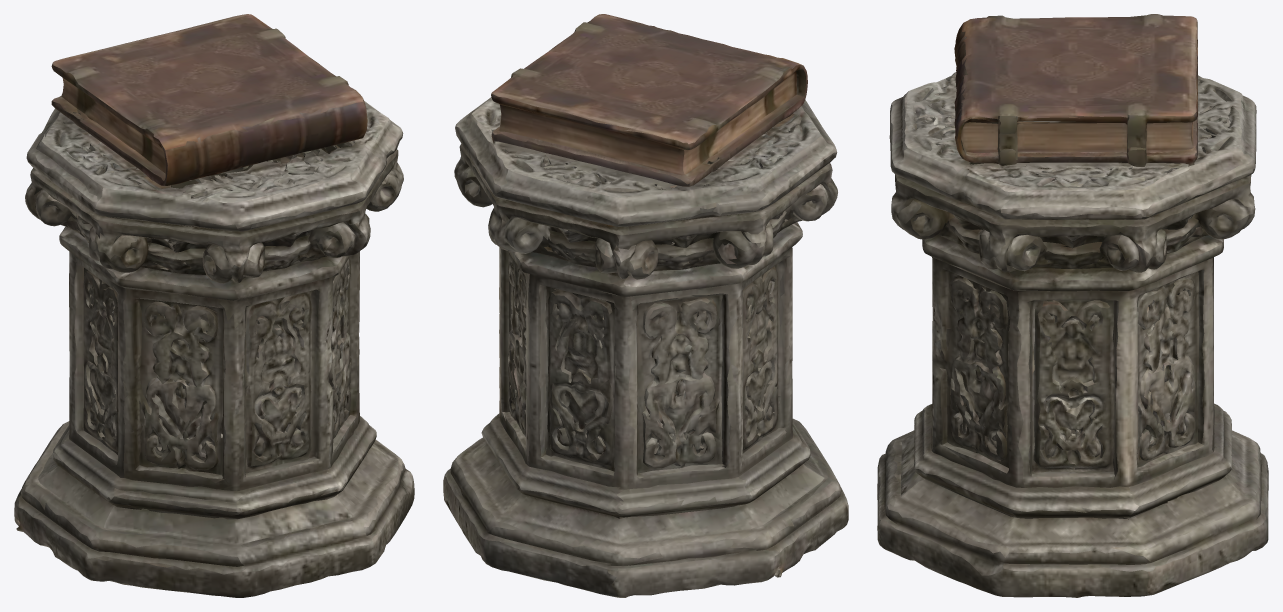
Rendered from obj_chamber_pedestal.glb.
The picture shows the model from 3 angles, left to right: view 1: azimuth 30°, elevation 25°; view 2: azimuth 150°, elevation 25°; view 3: azimuth 270°, elevation 25°; orthographic projection. The views are drawn at different scales.
Parts seen in each view (by area): view 1: geometry_0; view 2: geometry_0; view 3: geometry_0.
Part boxes in pixels (x1,y1,x2,y2): geometry_0: (14, 14, 414, 597); geometry_0: (443, 14, 848, 597); geometry_0: (877, 14, 1268, 597).
Size of the model in its own units: 0.7097 by 0.9 by 0.7064.
1 material, 1 textured.
